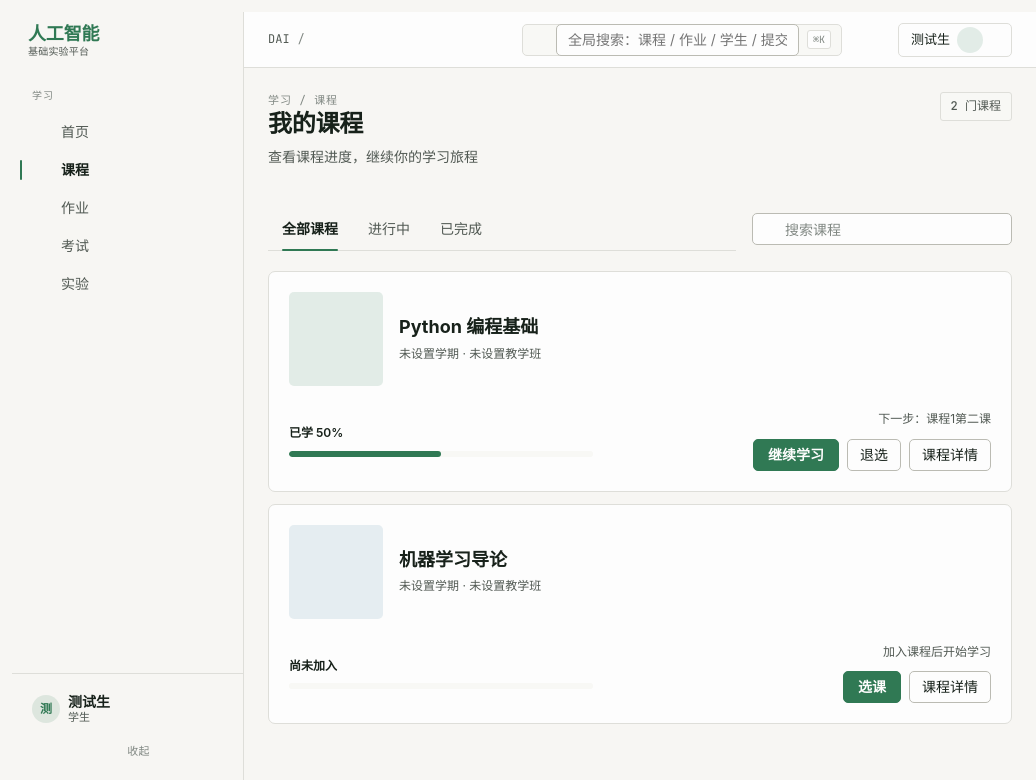
Test: 我的课程 CourseListView（参考图 02） › 选课成功后重新拉取课程列表（以服务端 is_enrolled 为准）
Click the button with class "enroll-btn": coordinates (872, 687) [843,671,901,703]
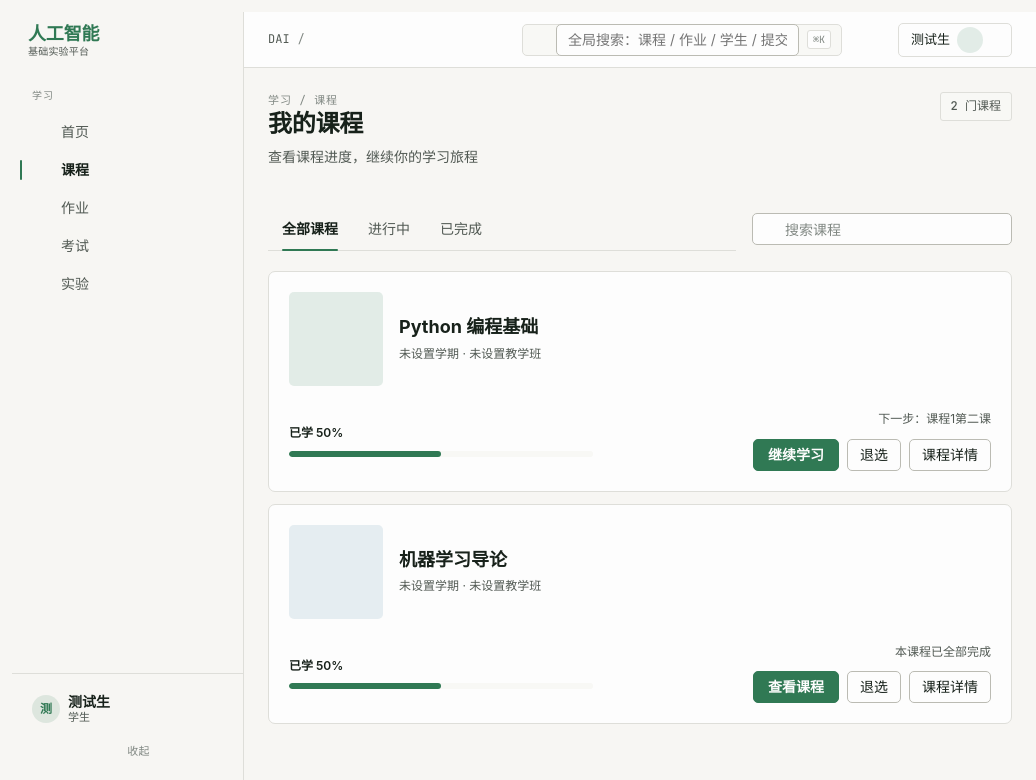
Result: the button with class "course-row" no longer shows "选课"
